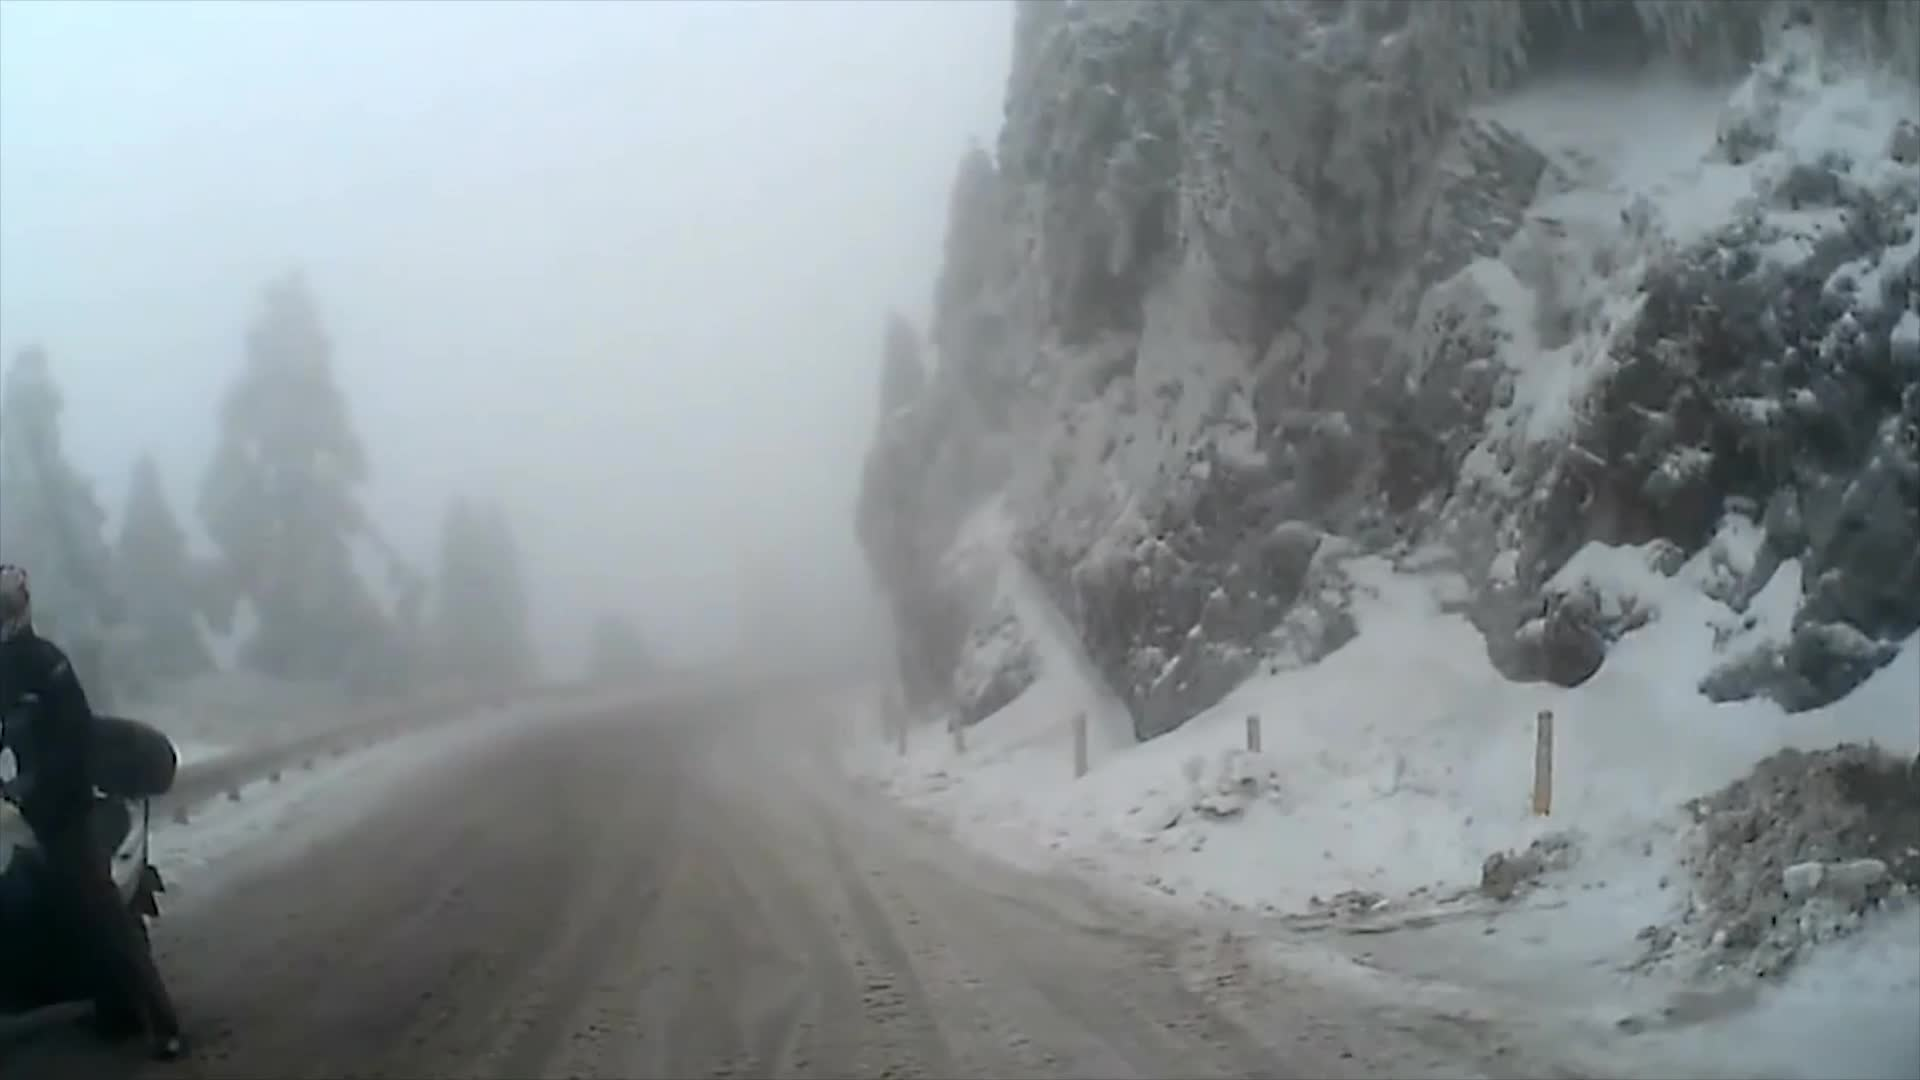pedestrian: (1, 550, 193, 1057)
